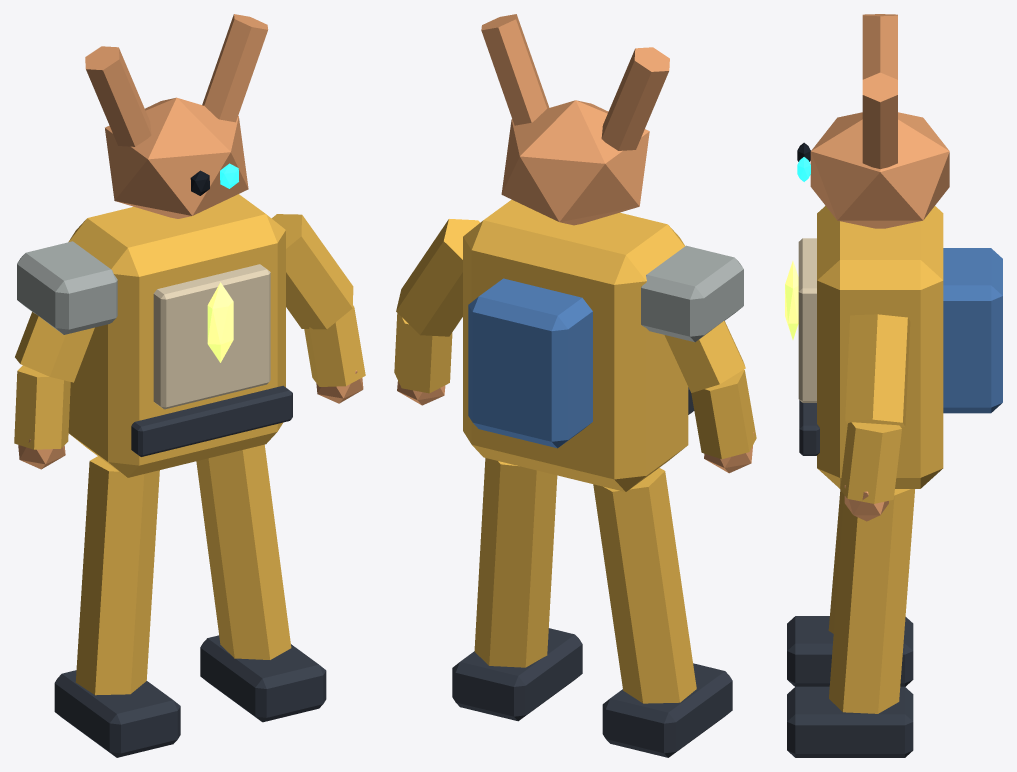
The model's file is npcs_013_seed11.glb.
The picture shows the model from 3 angles, left to right: view 1: azimuth 30°, elevation 25°; view 2: azimuth 150°, elevation 25°; view 3: azimuth 270°, elevation 25°; orthographic projection. The views are drawn at different scales.
Parts seen in each view (by area): view 1: npcs_013_seed11; view 2: npcs_013_seed11; view 3: npcs_013_seed11.
Boxes of the visible parts, left/top/right/bottom form: npcs_013_seed11: left=14, top=14, right=365, bottom=757; npcs_013_seed11: left=394, top=14, right=756, bottom=757; npcs_013_seed11: left=785, top=14, right=1002, bottom=757.
Bounding box in the file's own units: 1.18 × 2.2 × 0.6516.
